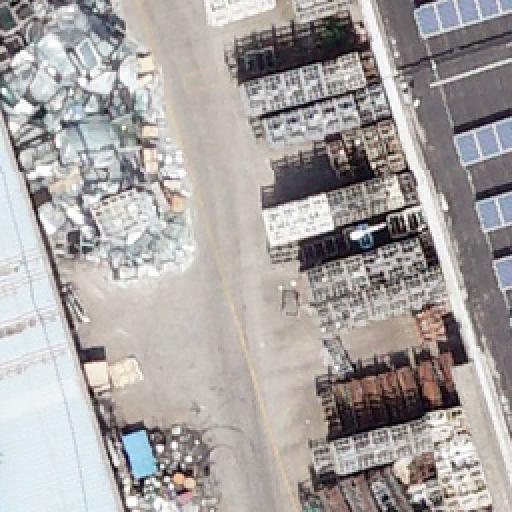solar-panel: (412, 0, 512, 40), (454, 113, 512, 167), (472, 191, 512, 233), (489, 253, 511, 291), (508, 315, 512, 325)
